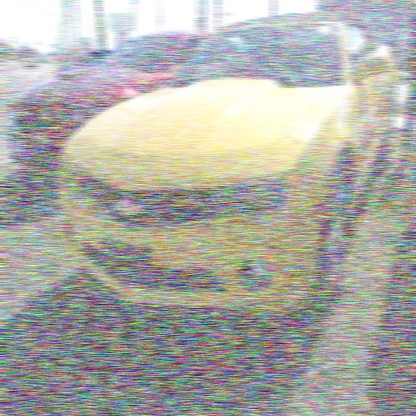Vehicle: (44, 21, 398, 320)
